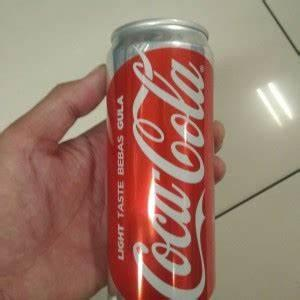metal: (108, 19, 215, 300)
